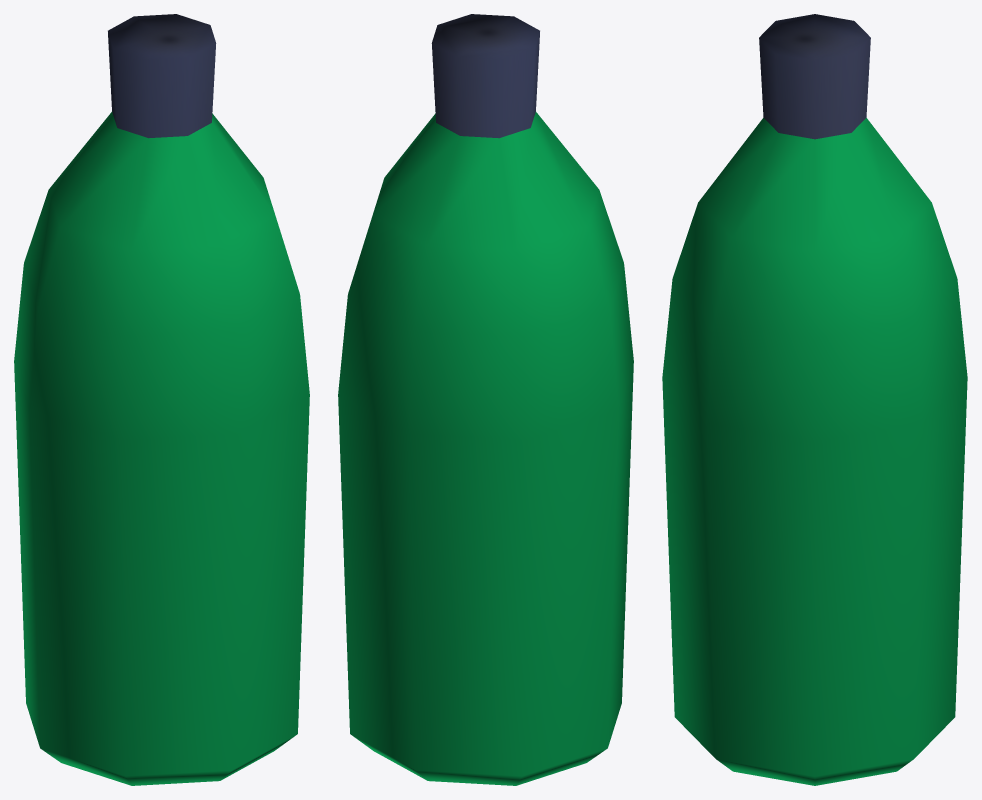
File: prop_GarbageBottle02.fbx
The picture shows the model from 3 angles, left to right: view 1: azimuth 30°, elevation 25°; view 2: azimuth 150°, elevation 25°; view 3: azimuth 270°, elevation 25°; orthographic projection.
Parts seen in each view (by area): view 1: prop_Bottle01; view 2: prop_Bottle01; view 3: prop_Bottle01.
Boxes of the visible parts, left/top/right/bottom form: prop_Bottle01: left=14, top=14, right=309, bottom=785; prop_Bottle01: left=338, top=14, right=633, bottom=785; prop_Bottle01: left=662, top=14, right=967, bottom=785.
Bounding box in the file's own units: 21.37 × 54.02 × 21.37.
